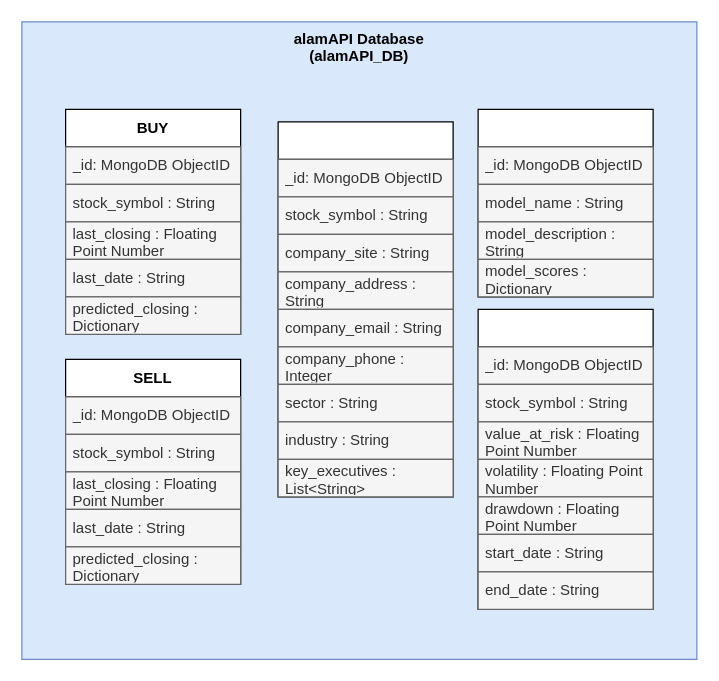
Image size: 719x681. Some labels were removed from this diagram. Each missing label, with the box of its shape:
INFO: (277, 121, 453, 497)
ML_MODELS_INFO: (477, 108, 653, 297)
RISKS_INFO: (477, 308, 653, 609)
